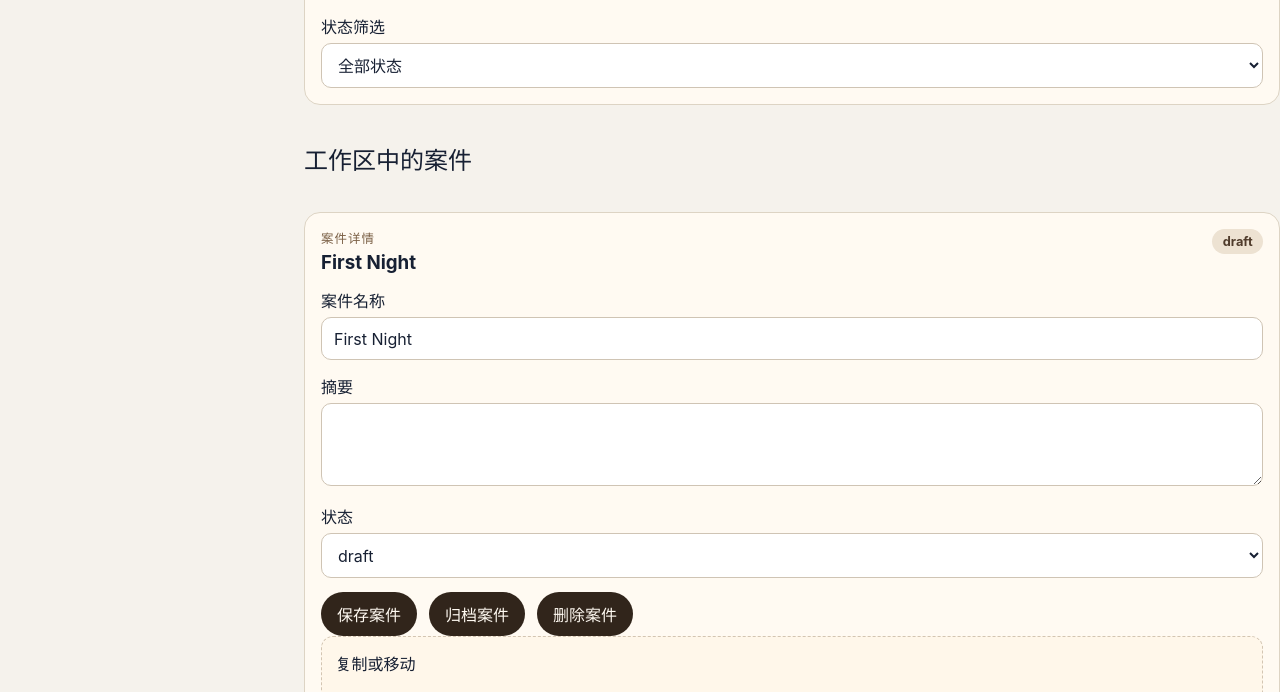
CasesPage › renames cases, changes status, and archives cases
The width and height of the screenshot is (1280, 692).
(page scrolled)
Replace the text in the field labelled "案件名称" with "Second Night" at (792, 339), box [321, 317, 1263, 360]
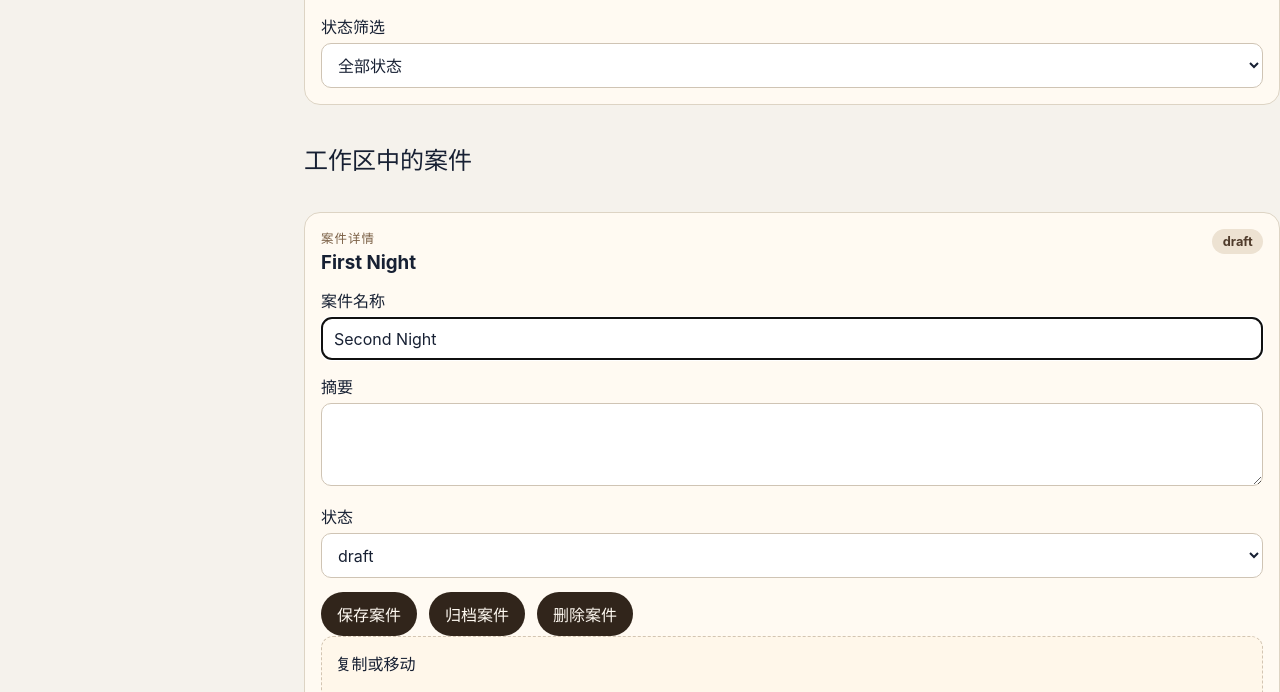
Select "active" in the dropdown labelled "状态" at (792, 556), box [321, 533, 1263, 578]
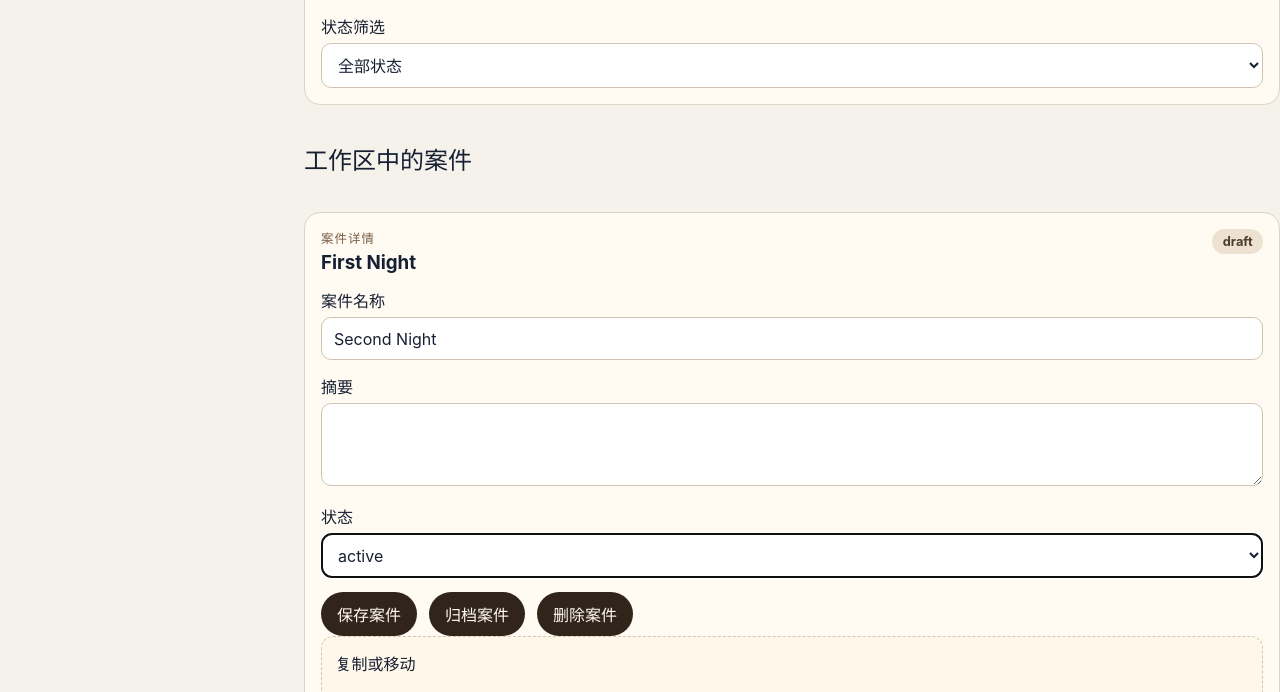
Click the button "保存案件" at (369, 614), box [321, 592, 417, 636]
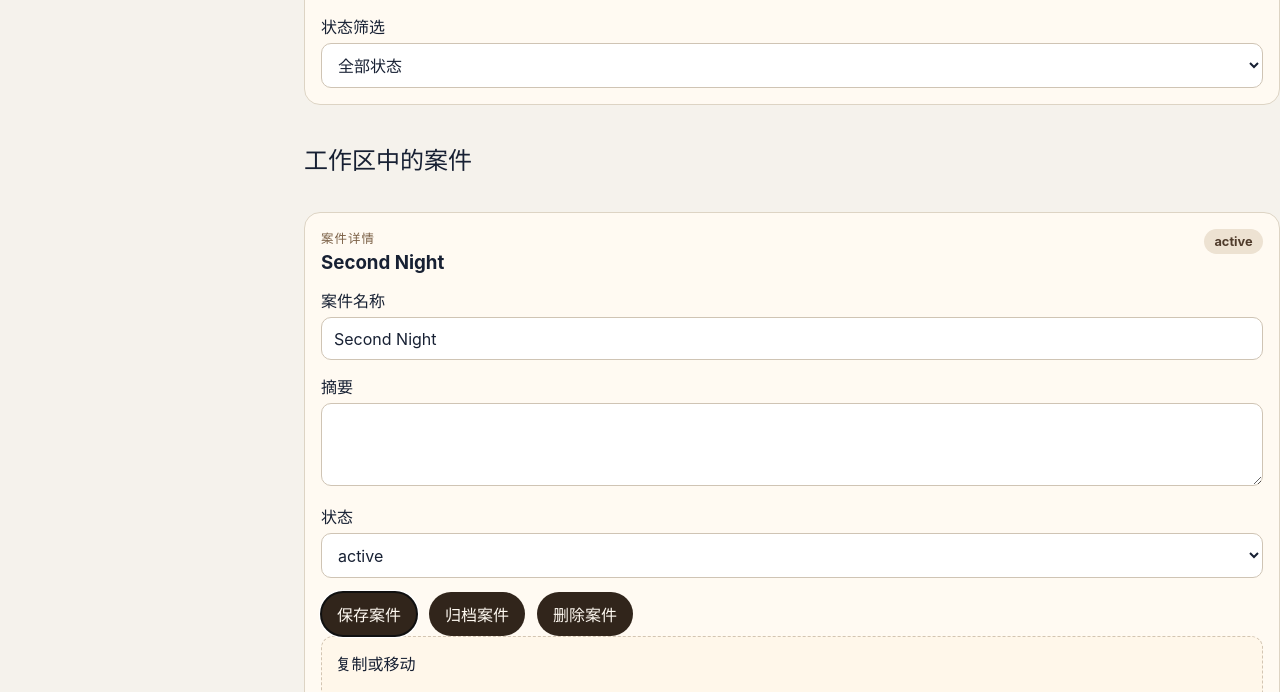
Expected: the text "active" is shown, [1204, 229, 1263, 254]
Click the button "归档案件" at (477, 614), box [429, 592, 525, 636]
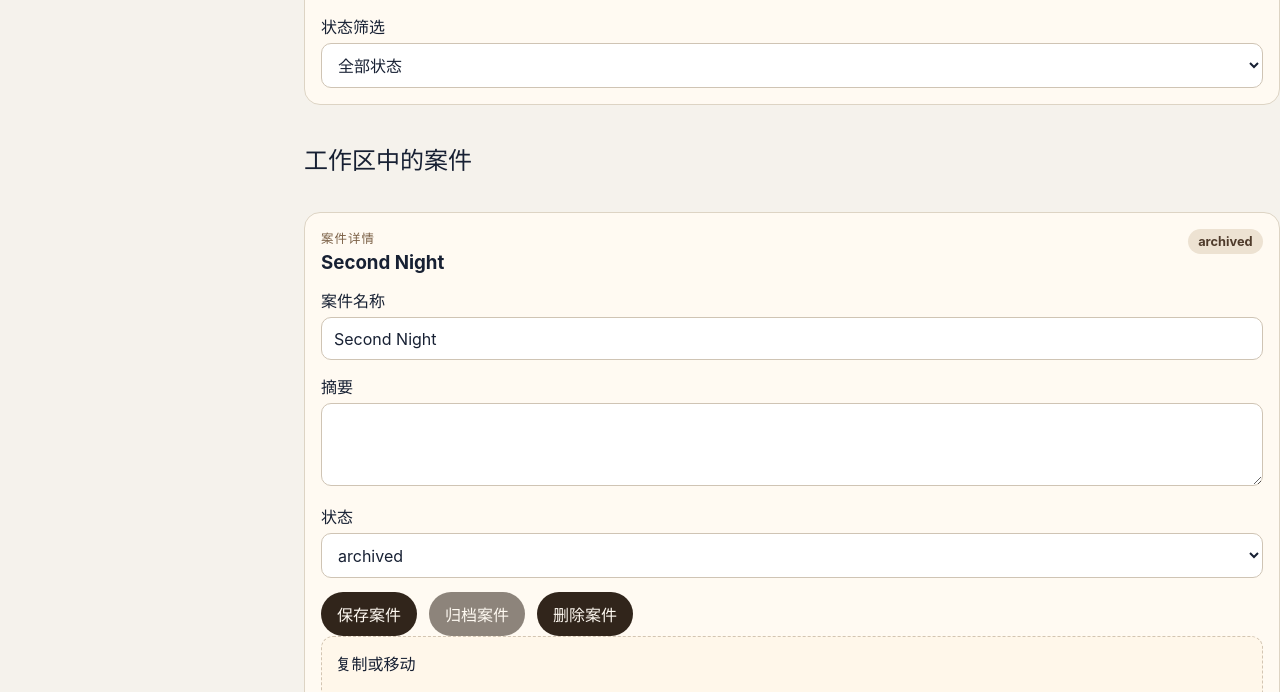
Expected: the text "archived" is shown, [1188, 229, 1263, 254]
Expected: the button "归档案件" is disabled, [429, 592, 525, 636]
